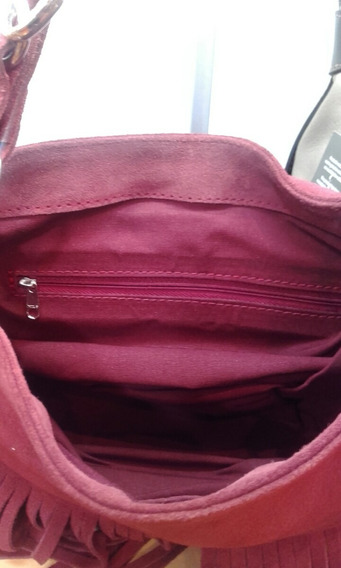cartera: (1, 128, 341, 560)
